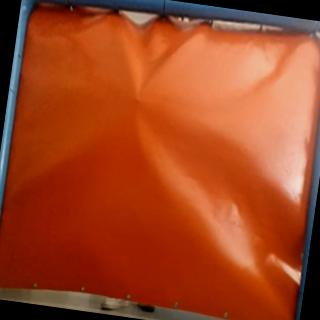Hit-hRxx: (129, 92, 149, 110)
